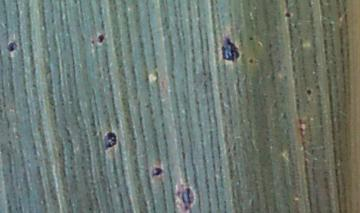tarspot: (221, 38, 241, 62), (182, 188, 196, 211), (103, 132, 117, 151), (6, 40, 18, 53), (151, 166, 163, 177), (97, 34, 105, 44), (284, 11, 291, 18), (305, 87, 311, 95), (248, 57, 255, 63), (247, 36, 254, 41)
